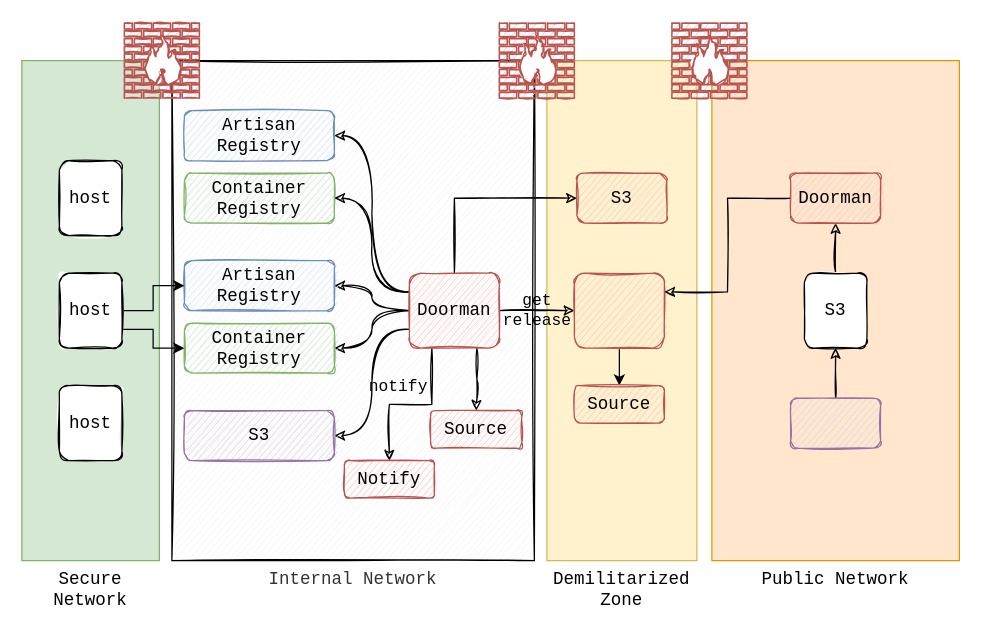
This 981x633 diagram has some shape labels left out. Here are the shapes that lost their labels. From the top down, the centre of each, then its label:
At point (618, 310): "Doorman Proxy".
At point (835, 422): "Release".
